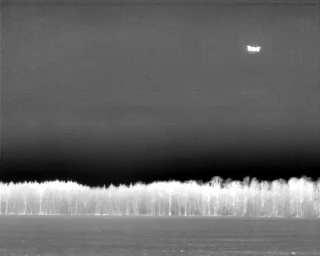DRONE: (242, 41, 265, 58)
